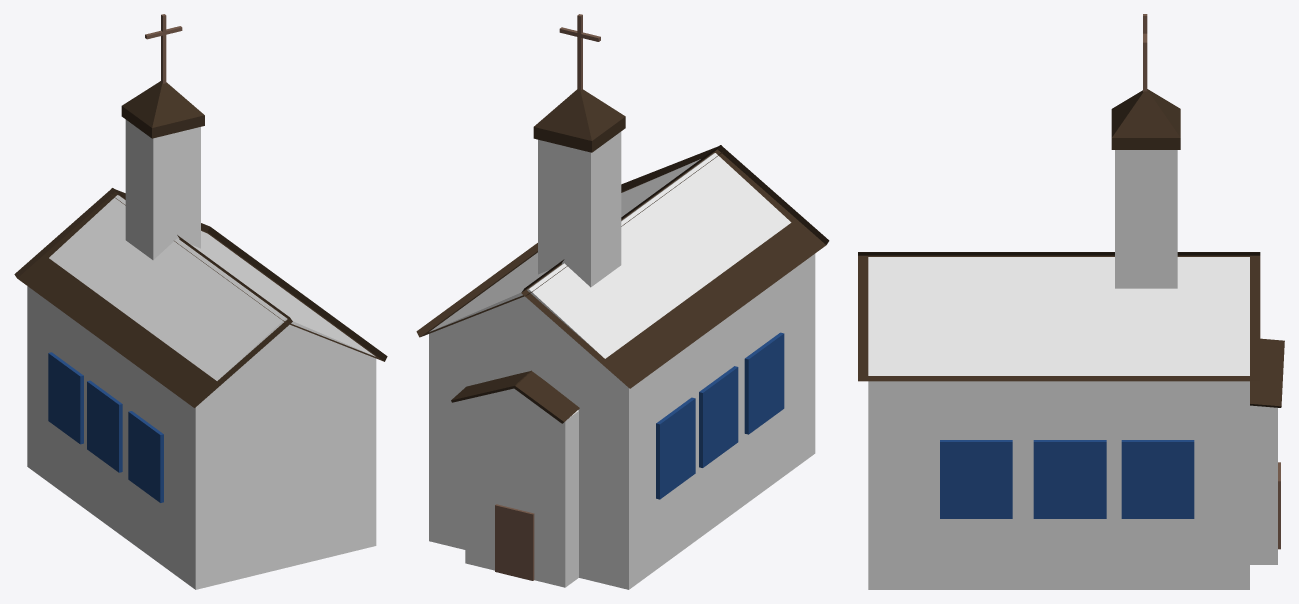
The model's file is church.fbx.
3 views of the same model, side by side, from view 1: azimuth 30°, elevation 25°; view 2: azimuth 150°, elevation 25°; view 3: azimuth 270°, elevation 25° (orthographic). The views are drawn at different scales.
Visible parts, largest first — view 1: Cube.001, Cube.004, Cube.003, Cube.005; view 2: Cube.001, Cube.004, Cube.003, Cube.005; view 3: Cube.001, Cube.003, Cube.004, Cube.005.
Boxes of the visible parts, x1,y1,x2,y2 form: Cube.001: (27,119,376,589); Cube.004: (14,81,387,407); Cube.003: (48,352,163,502); Cube.005: (145,14,182,83); Cube.001: (429,131,815,589); Cube.004: (416,88,829,423); Cube.003: (656,332,784,499); Cube.005: (495,14,600,580); Cube.001: (868,150,1277,589); Cube.003: (940,440,1194,518); Cube.004: (858,89,1284,407); Cube.005: (1143,14,1280,549).
Size of the model in its own units: 217 by 490 by 361.
